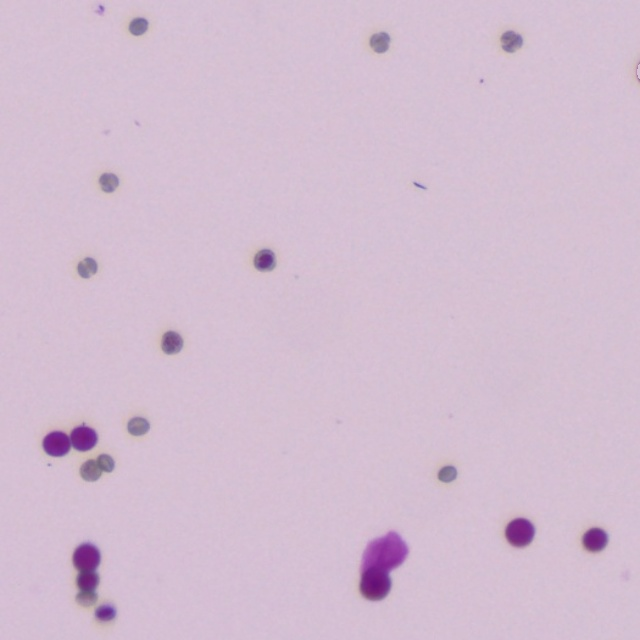intermediate: (253, 249, 274, 270), (94, 603, 116, 622)
non_viable: (161, 331, 182, 353), (501, 30, 522, 51), (369, 32, 389, 53), (127, 416, 149, 435), (77, 257, 96, 277), (82, 459, 102, 478), (99, 173, 118, 192), (95, 453, 113, 471), (438, 465, 456, 482), (129, 17, 147, 34)
viable: (505, 518, 534, 546), (361, 568, 389, 597), (74, 545, 98, 569), (69, 427, 95, 449), (583, 528, 606, 551), (44, 433, 67, 454), (78, 570, 96, 594)
